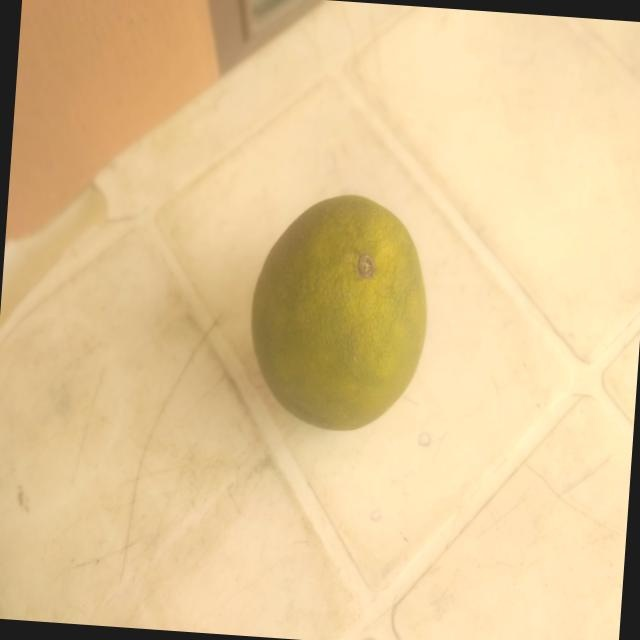agrume: (221, 136, 460, 467)
